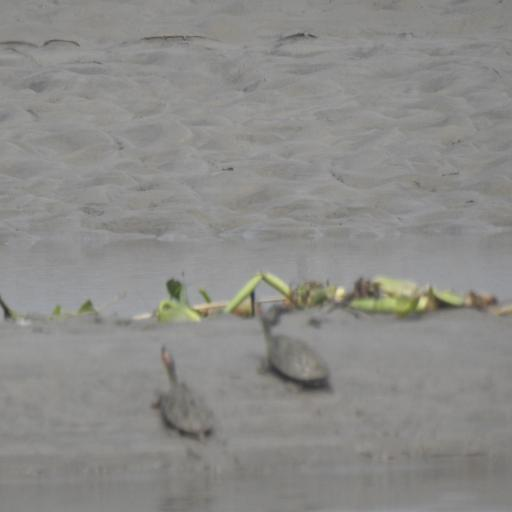turtle: (256, 305, 330, 394), (151, 340, 216, 441)
